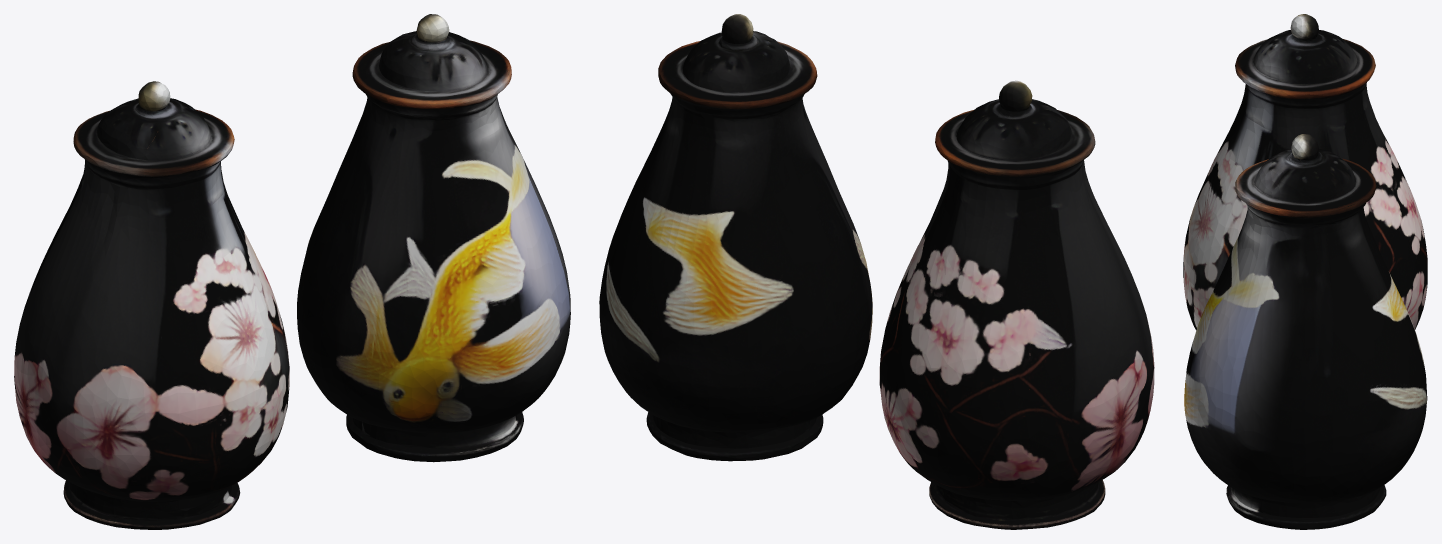
File: ceramic-salt-and-pepper-shaker-japanese.jpeg.glb
The picture shows the model from 3 angles, left to right: view 1: azimuth 30°, elevation 25°; view 2: azimuth 150°, elevation 25°; view 3: azimuth 270°, elevation 25°; orthographic projection. The views are drawn at different scales.
Visible parts, largest first — view 1: world; view 2: world; view 3: world.
Part boxes in pixels (x1=…): world: x1=14, y1=14, x2=570, y2=529; world: x1=599, y1=14, x2=1154, y2=529; world: x1=1183, y1=14, x2=1427, y2=529.
Bounding box in the file's own units: 0.9997 × 0.7584 × 0.4645.
Materials: 1 (1 with a texture image).
